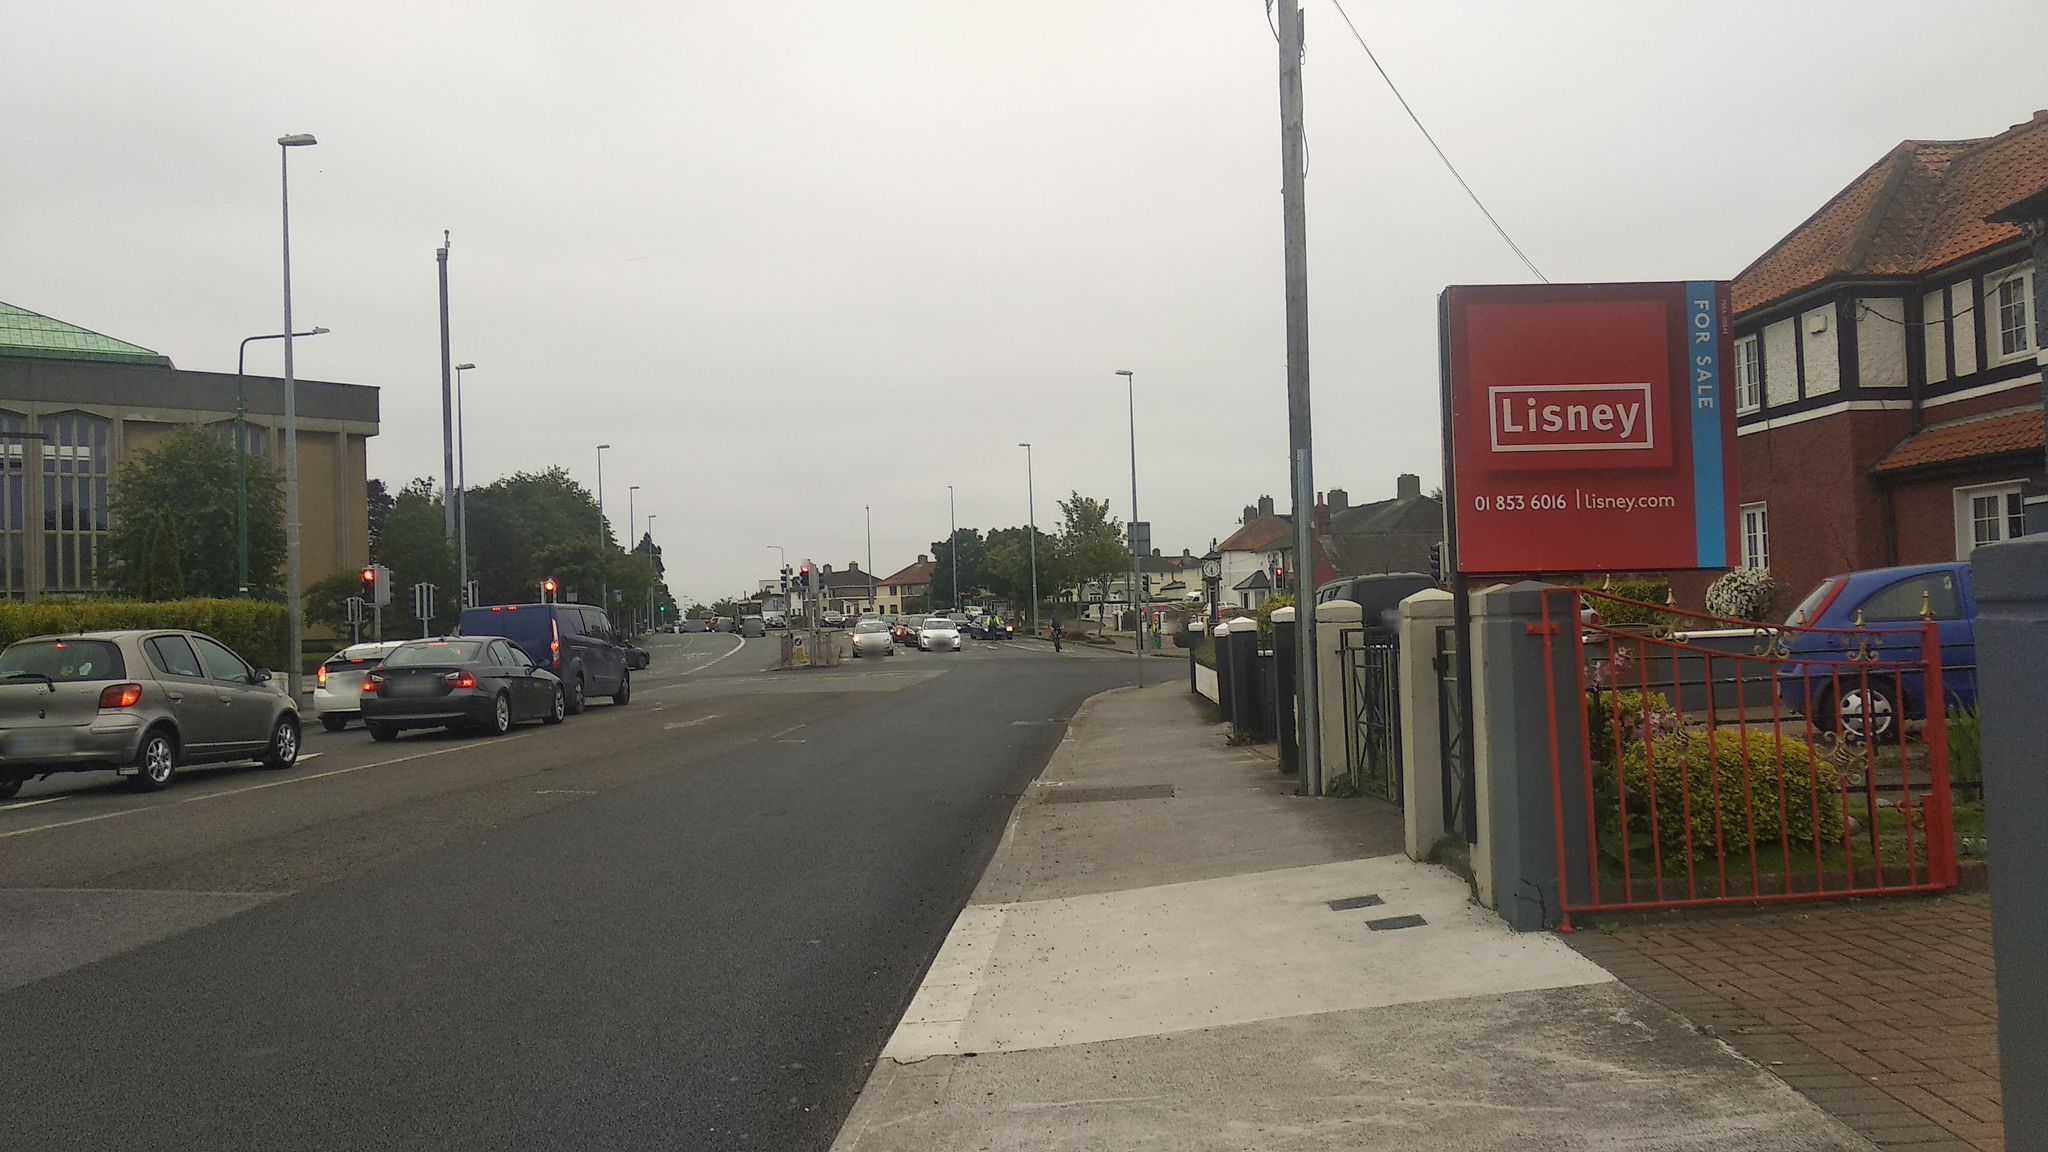property sign: (1414, 260, 1784, 592)
